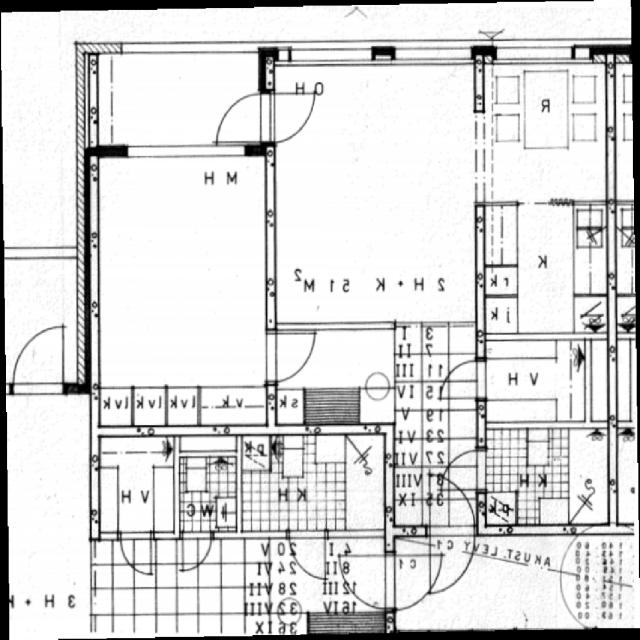door: (259, 92, 317, 140), (218, 92, 275, 140), (431, 475, 475, 536), (431, 526, 475, 587), (266, 334, 317, 382), (443, 450, 487, 490), (444, 360, 486, 398)
